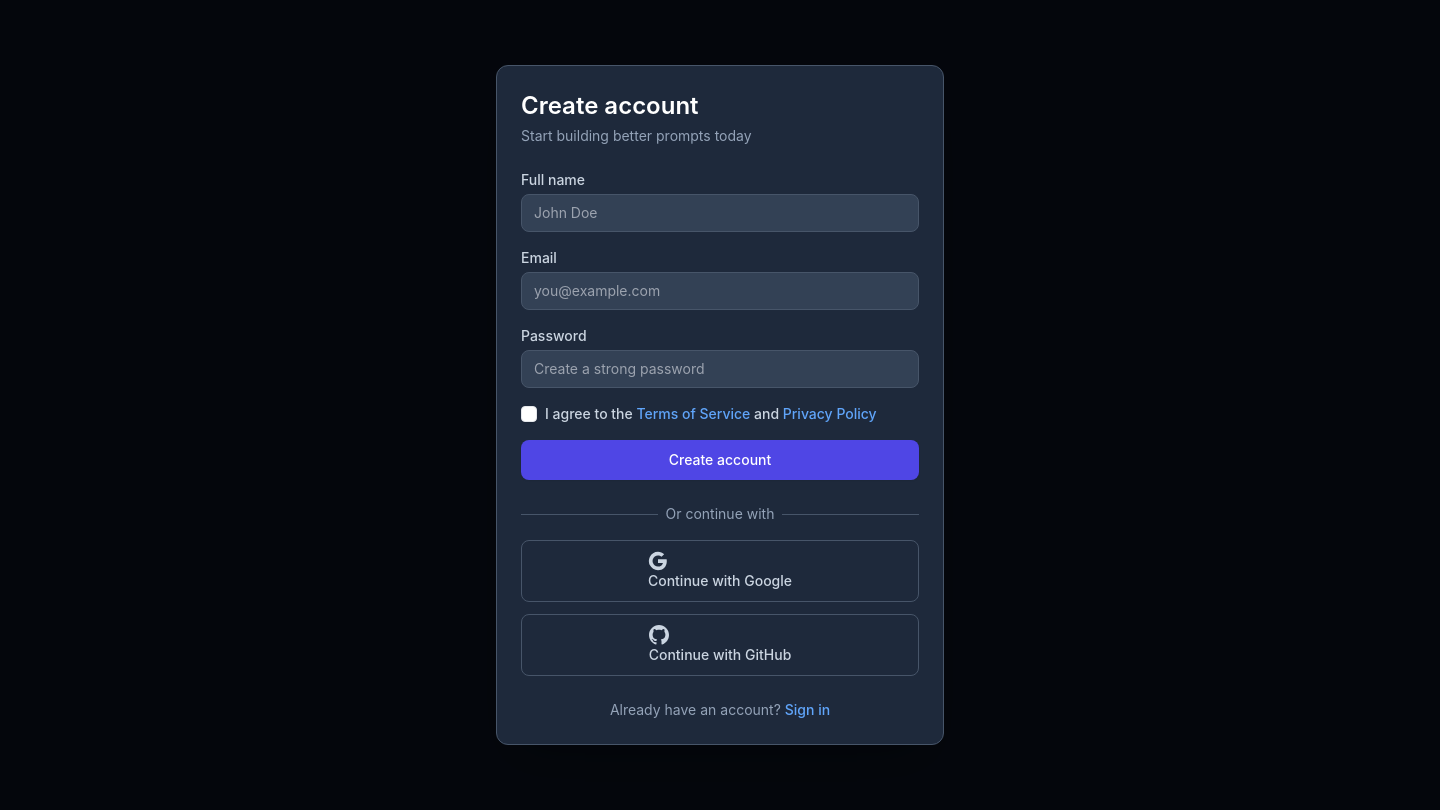
Authentication System Tests › RegisterForm › shows password strength indicator
In the password field labelled "Password": (720, 369) [521,350,919,388], type "Test123!"
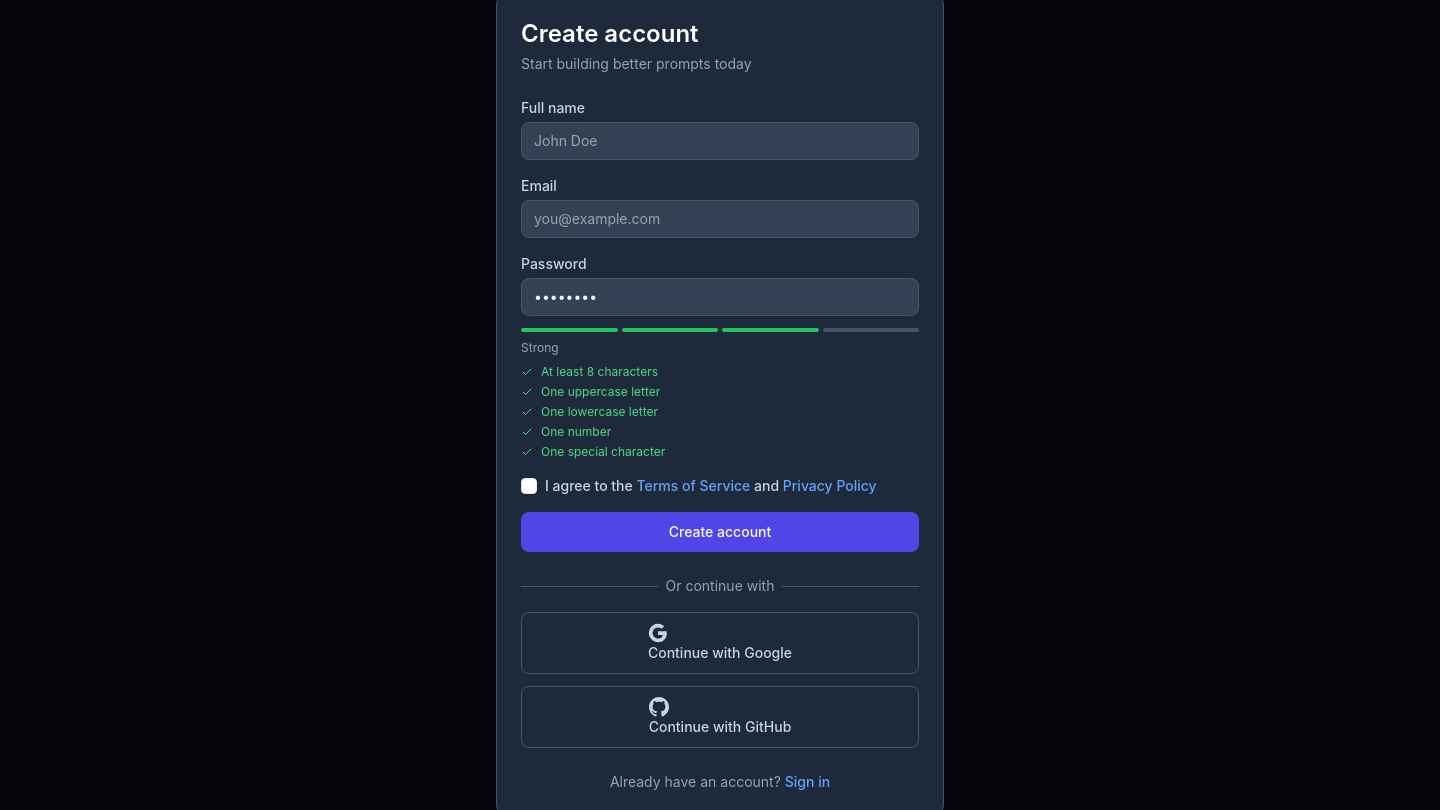
Expected: the list item "At least 8 characters" is shown, [521,364,658,379]
